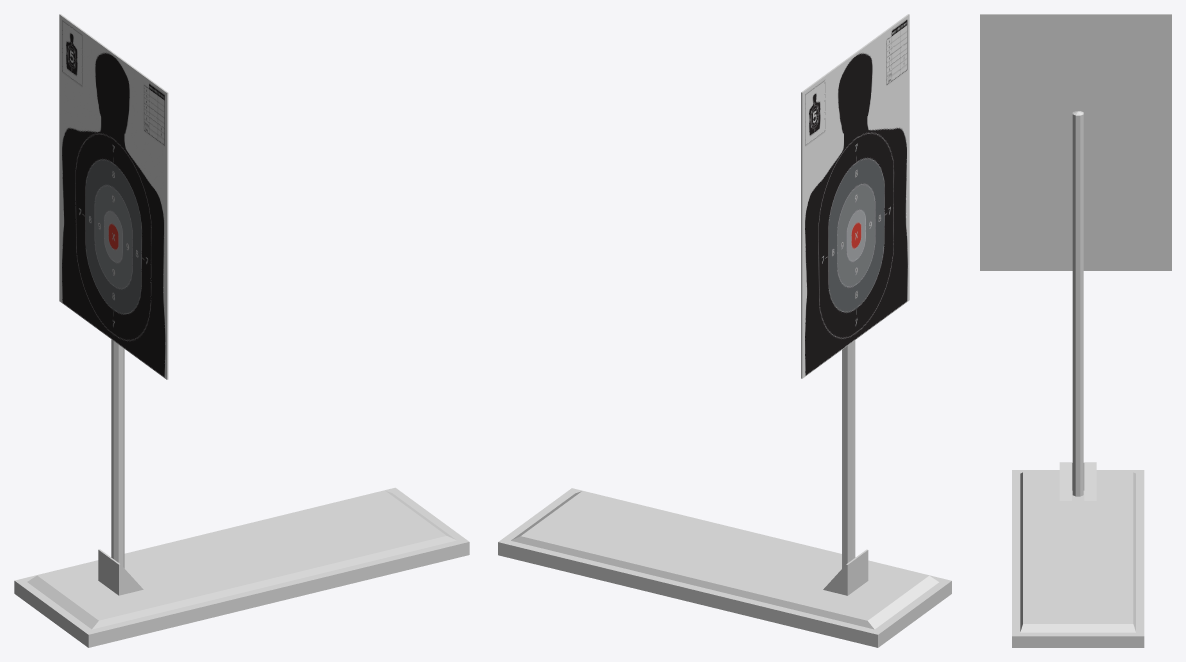
File: LiveShootingTarget.fbx
The picture shows the model from 3 angles, left to right: view 1: azimuth 30°, elevation 25°; view 2: azimuth 150°, elevation 25°; view 3: azimuth 270°, elevation 25°; orthographic projection. The views are drawn at different scales.
Visible parts, largest first — view 1: Base, Target, Pole; view 2: Base, Target, Pole; view 3: Target, Base, Pole.
Boxes of the visible parts, left/top/right/bottom form: Base: left=14, top=487, right=469, bottom=647; Target: left=59, top=14, right=168, bottom=379; Pole: left=111, top=339, right=124, bottom=568; Base: left=498, top=488, right=951, bottom=647; Target: left=801, top=14, right=909, bottom=378; Pole: left=842, top=340, right=855, bottom=568; Target: left=980, top=14, right=1171, bottom=270; Base: left=1012, top=462, right=1144, bottom=647; Pole: left=1072, top=111, right=1083, bottom=496.
Bounding box in the file's own units: 131 × 181 × 63.87.
